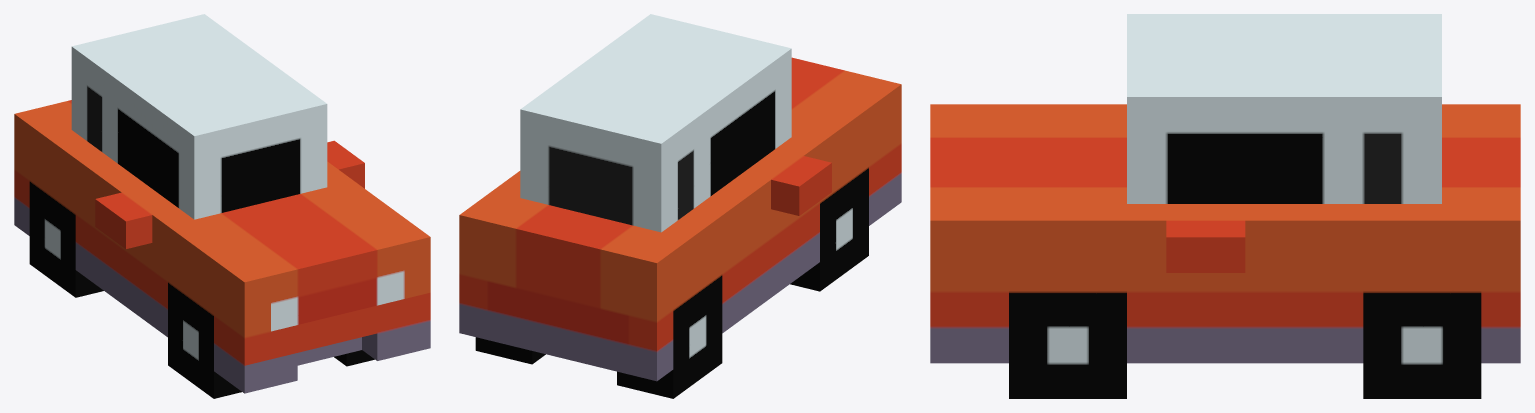
File: orange_car.glb
The picture shows the model from 3 angles, left to right: view 1: azimuth 30°, elevation 25°; view 2: azimuth 150°, elevation 25°; view 3: azimuth 270°, elevation 25°; orthographic projection. The views are drawn at different scales.
Visible parts, largest first — view 1: Sedan; view 2: Sedan; view 3: Sedan.
Part boxes in pixels (<box>): Sedan: <box>14,14,430,398</box>; Sedan: <box>459,14,901,398</box>; Sedan: <box>930,14,1520,398</box>.
Bounding box in the file's own units: 1.08 × 0.96 × 1.8.
Materials: 1 (1 with a texture image).
